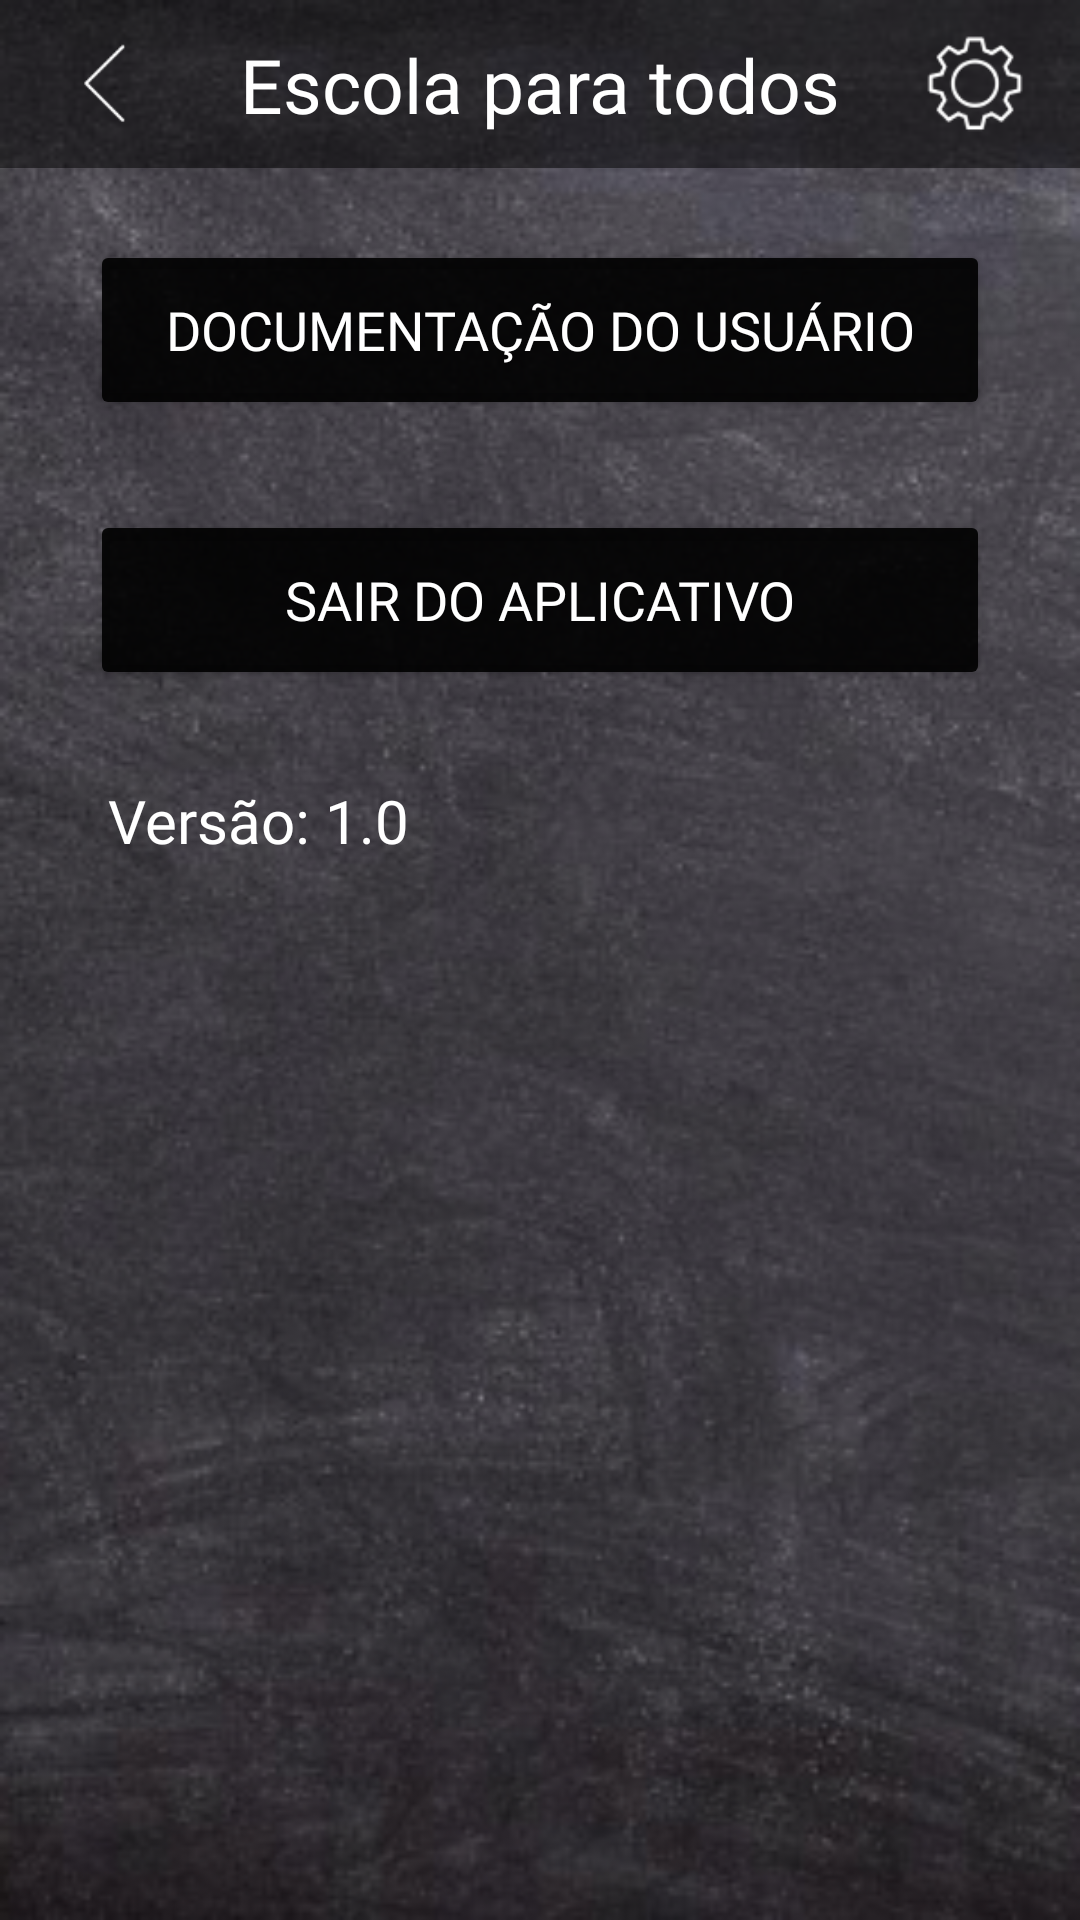

Icon bounding boxes for this 1080w x 1920h phone screenshot, format (x1, y1, x2, y2):
config: (927, 36, 1023, 130)
voltar: (84, 44, 125, 122)
